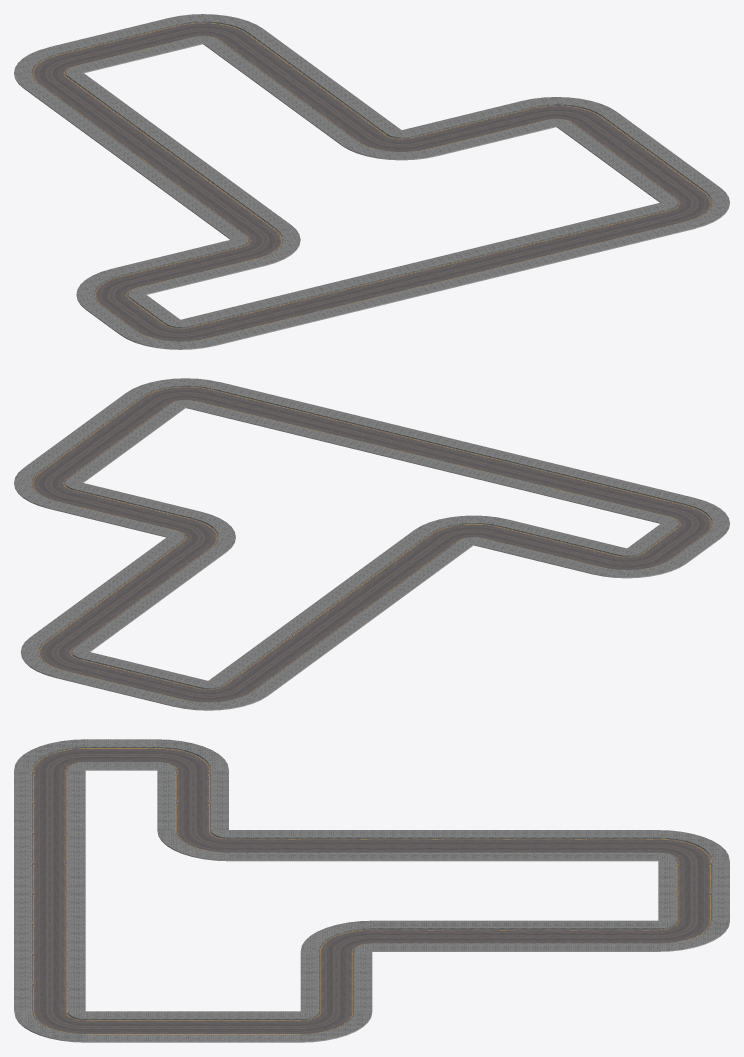
Rendered from Roads.obj.
3 renders of one model, top to bottom at view 1: azimuth 30°, elevation 25°; view 2: azimuth 150°, elevation 25°; view 3: azimuth 270°, elevation 25°, orthographic. The views are drawn at different scales.
Parts seen in each view (by area): view 1: Plane.013_Plane.007, Plane.017_Plane.012, Plane.023, Plane.024, Plane.011_Plane.019, Plane.003, Plane.012_Plane.020, Plane.026, Plane.006_Plane.008, Plane.002, Plane.014_Plane.009, Plane.018_Plane.013 (+24 smaller); view 2: Plane.017_Plane.012, Plane.018_Plane.013, Plane.002, Plane.012_Plane.020, Plane.003, Plane.008_Plane.015, Plane.011_Plane.019, Plane.013_Plane.007, Plane.014_Plane.009, Plane.023, Plane.026, Plane.006_Plane.008 (+24 smaller); view 3: Plane.016_Plane.011, Plane.032, Plane.001, Plane.009_Plane.016, Plane.031, Plane.034, Plane.033, Plane.005_Plane.006, Plane.010_Plane.018, Plane.007_Plane.005, Plane.020_Plane.017, Plane.021 (+24 smaller).
Part boxes in pixels (x1,y1,x2,y2): Plane.013_Plane.007: (171,239,265,280); Plane.017_Plane.012: (301,276,395,316); Plane.023: (421,246,515,287); Plane.024: (541,217,635,257); Plane.011_Plane.019: (241,290,335,331); Plane.003: (462,101,556,141); Plane.012_Plane.020: (181,305,275,345); Plane.026: (361,261,455,301); Plane.006_Plane.008: (49,32,143,73); Plane.002: (402,115,496,156); Plane.014_Plane.009: (111,254,205,294); Plane.018_Plane.013: (481,232,575,272); Plane.017_Plane.012: (483,454,576,494); Plane.018_Plane.013: (304,411,397,451); Plane.002: (107,497,200,537); Plane.012_Plane.020: (602,483,695,523); Plane.003: (48,483,141,522); Plane.008_Plane.015: (55,652,148,691); Plane.011_Plane.019: (542,469,635,509); Plane.013_Plane.007: (473,519,566,559); Plane.014_Plane.009: (533,534,626,574); Plane.023: (364,425,457,465); Plane.026: (423,440,516,480); Plane.006_Plane.008: (114,666,207,706); Plane.016_Plane.011: (85,739,157,770); Plane.032: (586,920,658,951); Plane.001: (443,830,515,861); Plane.009_Plane.016: (443,920,515,951); Plane.031: (586,830,658,861); Plane.034: (515,920,586,951); Plane.033: (515,830,586,861); Plane.005_Plane.006: (372,830,443,861); Plane.010_Plane.018: (372,920,443,951); Plane.007_Plane.005: (229,830,300,861); Plane.020_Plane.017: (86,1011,157,1042); Plane.021: (157,1011,228,1042).
Bounding box in the file's own units: 240 × 0.3524 × 240.
145 materials, 116 textured.
